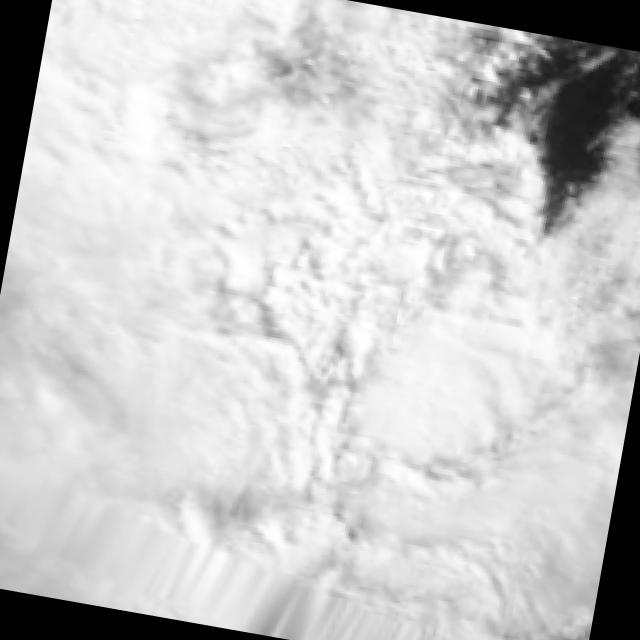CB: (298, 161, 521, 398), (270, 356, 488, 584), (0, 117, 206, 343), (432, 358, 633, 588), (176, 0, 404, 178), (128, 318, 318, 527), (166, 148, 360, 347), (29, 0, 225, 153), (471, 240, 640, 404)
